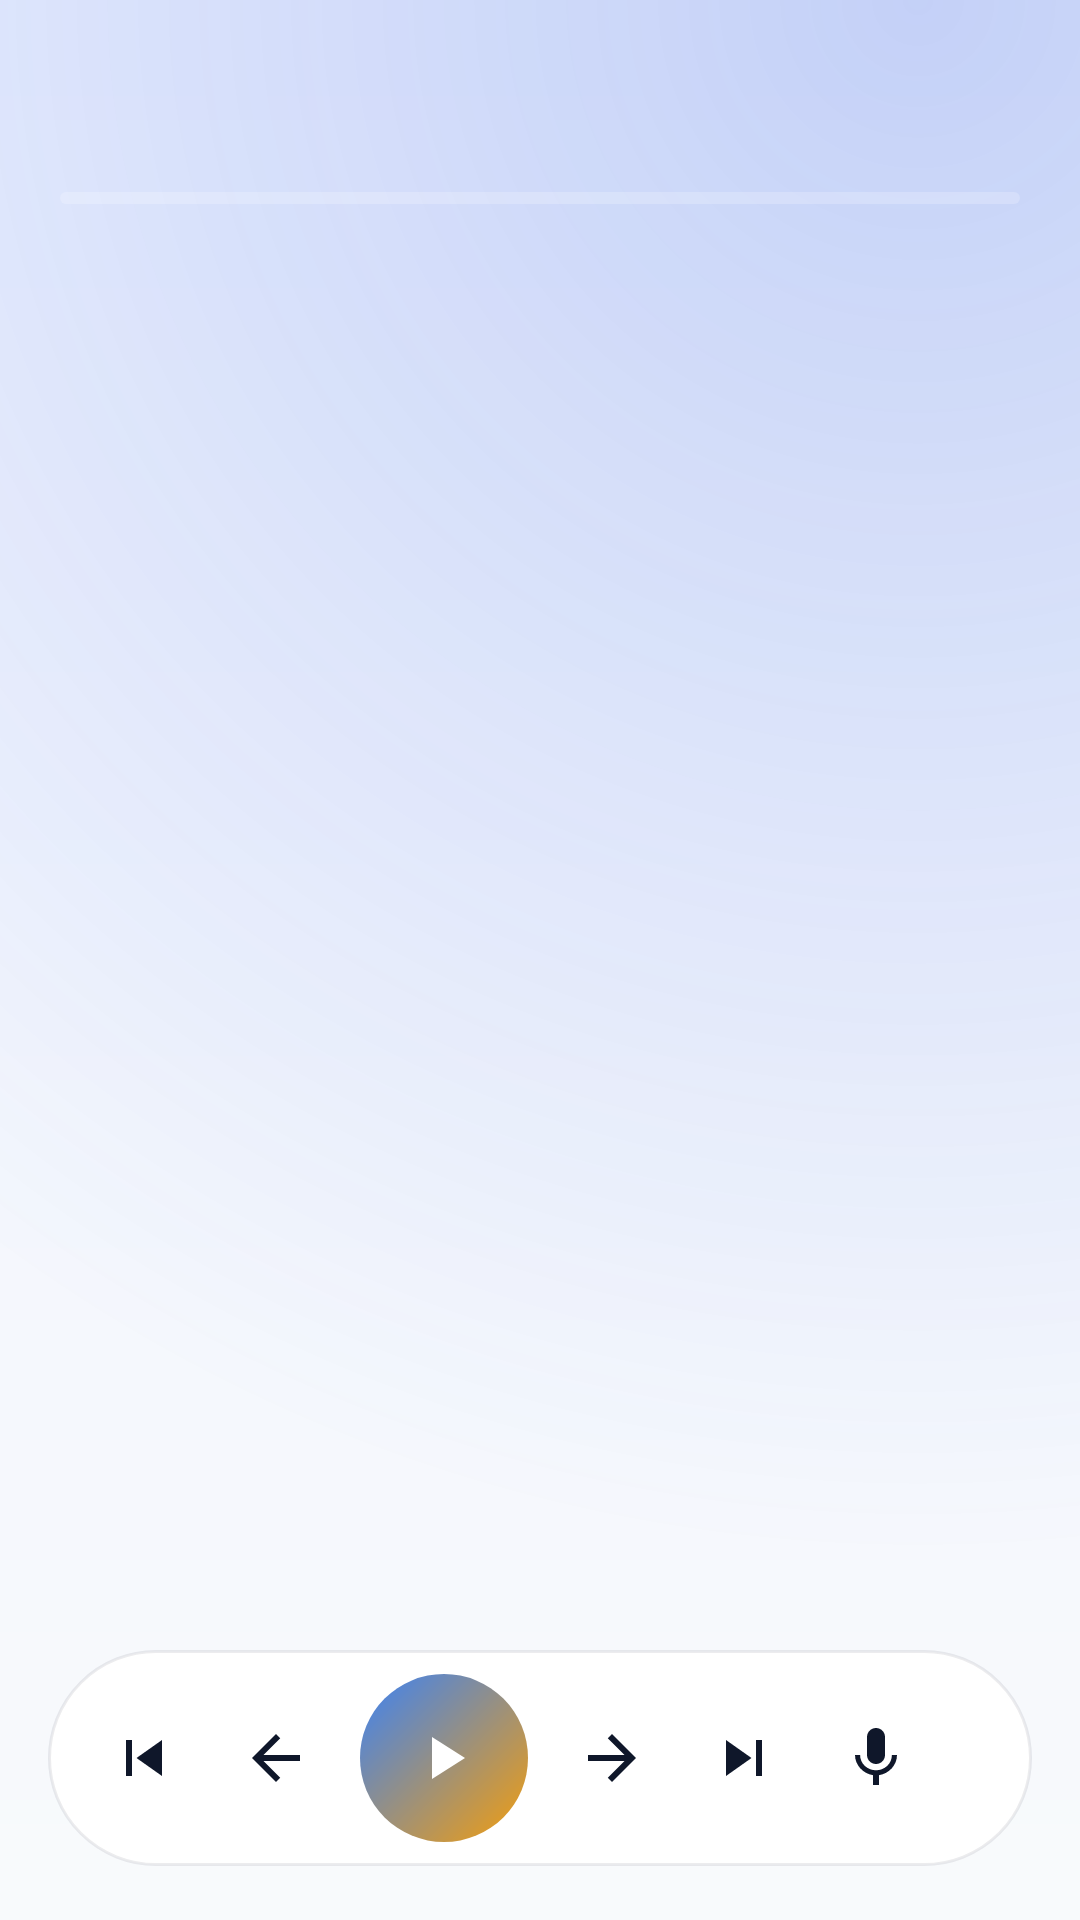

Where to tap for icons on this 1080 x 1920 app screen, as point (x, y):
Next paragraph: point (744, 1758)
Play: point (444, 1758)
Previous paragraph: point (144, 1758)
Previous sentence: point (276, 1758)
Say this sentence: point (876, 1756)
